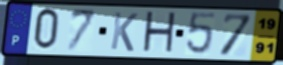0: (32, 6, 63, 53)
5: (184, 11, 218, 57)
7: (219, 12, 253, 58), (67, 8, 98, 54)
H: (140, 10, 178, 56)
K: (109, 11, 140, 54)
